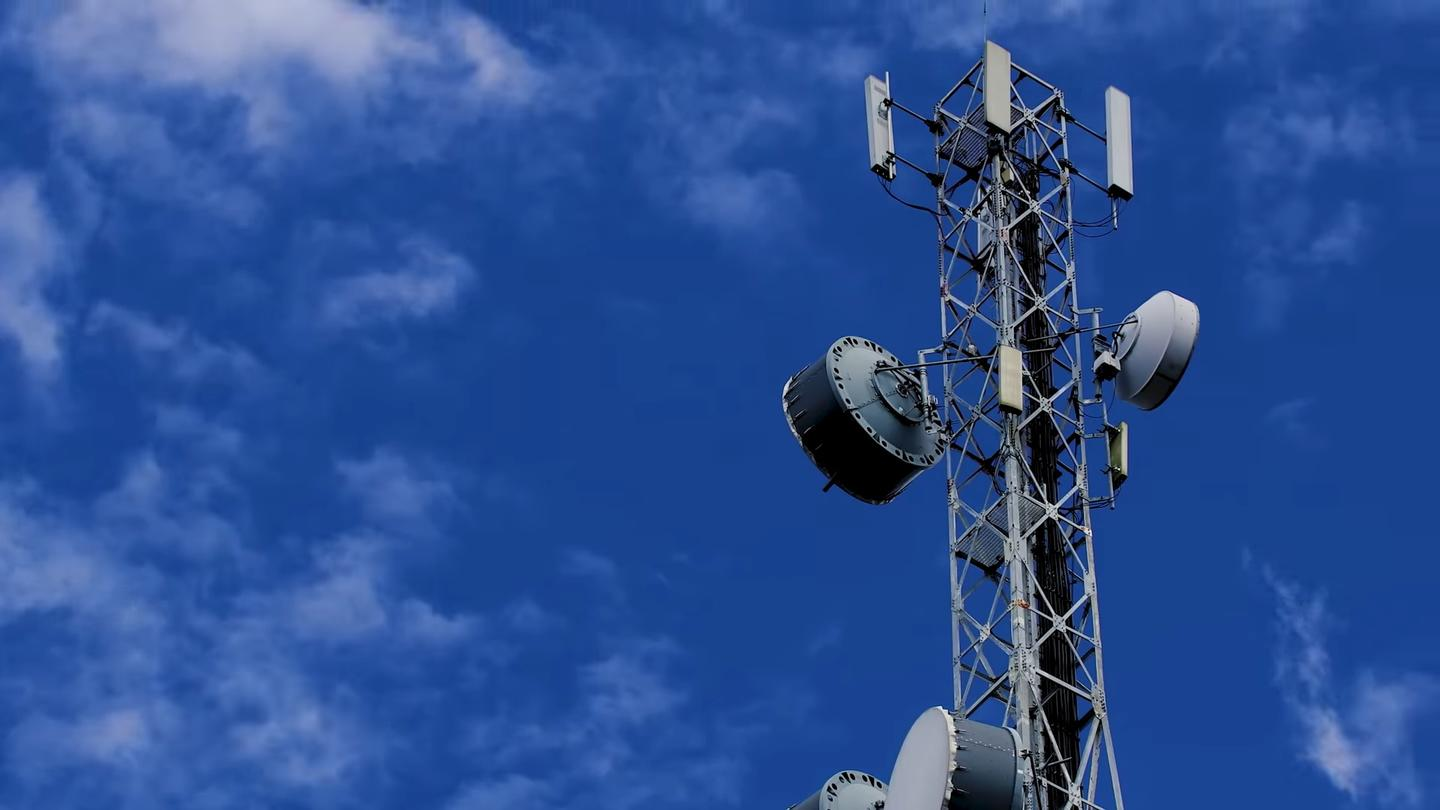ba: (744, 315, 946, 532), (855, 667, 1027, 808), (1093, 261, 1212, 405)
sa: (842, 72, 922, 202), (1086, 70, 1139, 226), (962, 47, 1021, 158)
